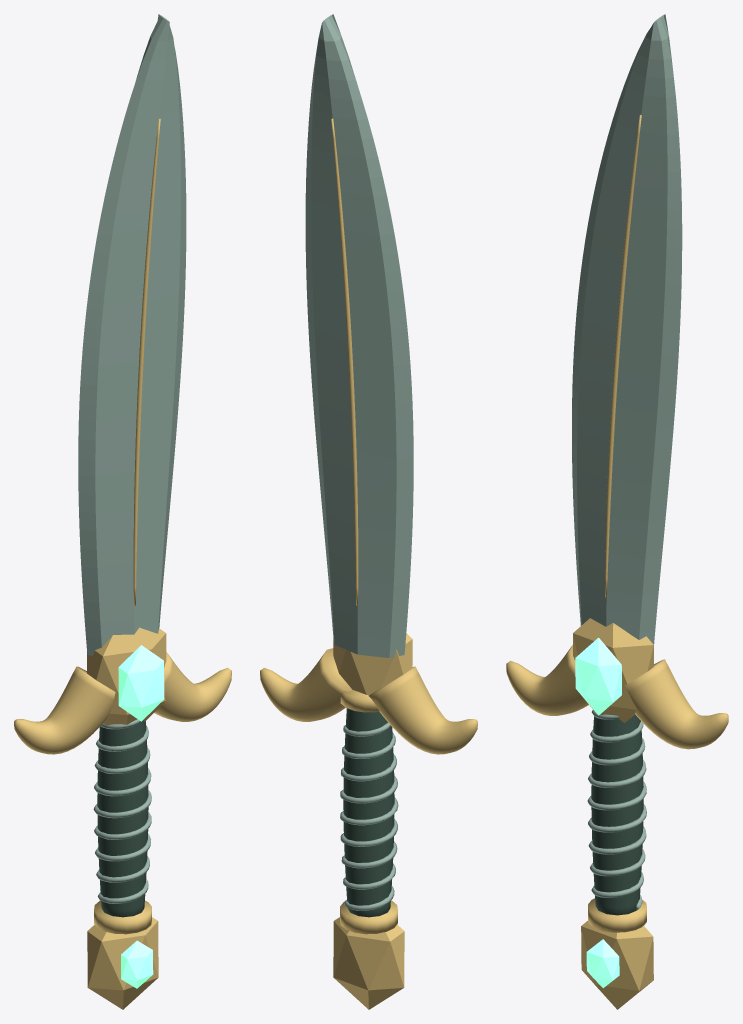
File: verdant_iron_sword.glb
3 renders of one model, left to right at view 1: azimuth 30°, elevation 25°; view 2: azimuth 150°, elevation 25°; view 3: azimuth 330°, elevation 25°, orthographic. The views are drawn at different scales.
Visible parts, largest first — view 1: Ironleaf Sword blade, Tapered leather grip, Swept guard wing, Faceted pommel, Helical grip binding, Guard socket, Swept guard wing.001, Guard gemstone, Curved fuller inlay, Pommel inset, Grip collar; view 2: Ironleaf Sword blade, Tapered leather grip, Faceted pommel, Swept guard wing, Swept guard wing.001, Helical grip binding, Guard socket, Curved fuller inlay.001, Grip collar, Grip collar.001; view 3: Ironleaf Sword blade, Tapered leather grip, Swept guard wing.001, Faceted pommel, Helical grip binding, Guard socket, Swept guard wing, Guard gemstone, Curved fuller inlay, Grip collar, Pommel inset.
Part boxes in pixels (bbox=[...]): Ironleaf Sword blade: bbox=[78, 14, 186, 655]; Tapered leather grip: bbox=[97, 720, 148, 917]; Swept guard wing: bbox=[14, 666, 115, 754]; Faceted pommel: bbox=[87, 917, 158, 1009]; Helical grip binding: bbox=[93, 718, 151, 903]; Guard socket: bbox=[87, 627, 166, 725]; Swept guard wing.001: bbox=[154, 652, 231, 721]; Guard gemstone: bbox=[118, 645, 164, 721]; Curved fuller inlay: bbox=[133, 118, 160, 605]; Pommel inset: bbox=[121, 940, 153, 988]; Grip collar: bbox=[94, 900, 151, 934]; Ironleaf Sword blade: bbox=[305, 14, 413, 657]; Tapered leather grip: bbox=[343, 708, 394, 917]; Faceted pommel: bbox=[333, 917, 404, 1009]; Swept guard wing: bbox=[368, 666, 477, 754]; Swept guard wing.001: bbox=[260, 648, 352, 721]; Helical grip binding: bbox=[340, 722, 398, 910]; Guard socket: bbox=[333, 633, 412, 695]; Curved fuller inlay.001: bbox=[331, 118, 358, 605]; Grip collar: bbox=[340, 900, 397, 934]; Grip collar.001: bbox=[340, 690, 379, 712]; Ironleaf Sword blade: bbox=[572, 14, 682, 644]; Tapered leather grip: bbox=[591, 714, 643, 915]; Swept guard wing.001: bbox=[625, 659, 728, 749]; Faceted pommel: bbox=[581, 920, 653, 1009]; Helical grip binding: bbox=[587, 710, 646, 910]; Guard socket: bbox=[573, 618, 653, 722]; Swept guard wing: bbox=[506, 645, 588, 715]; Guard gemstone: bbox=[575, 637, 621, 715]; Curved fuller inlay: bbox=[605, 114, 641, 597]; Grip collar: bbox=[588, 898, 646, 932]; Pommel inset: bbox=[586, 939, 619, 988].
Size of the model in its own units: 1.16 by 5 by 0.3739.
